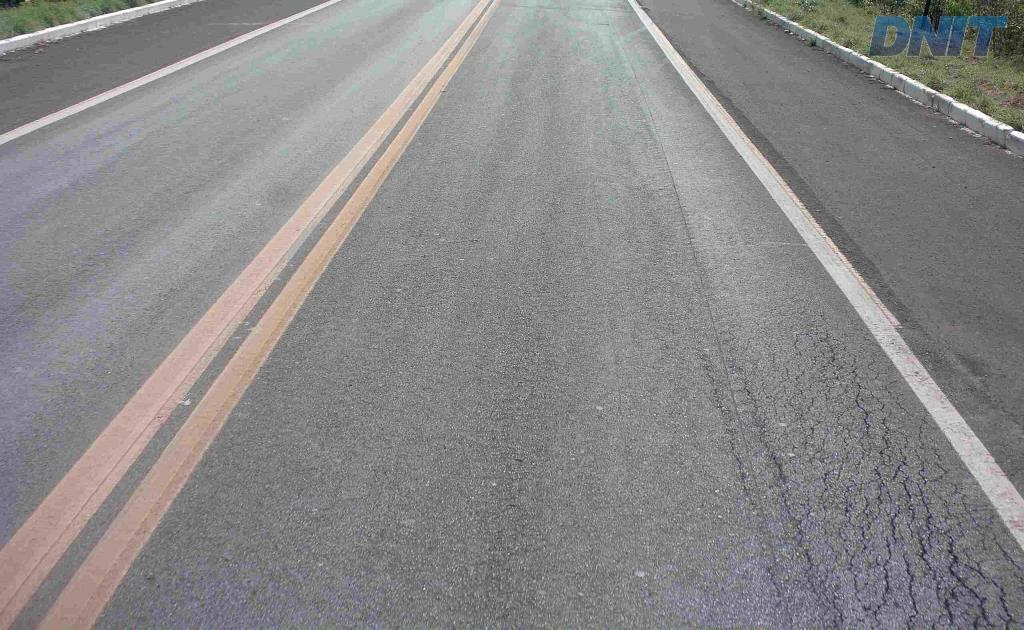crack: (885, 434, 1018, 629), (866, 535, 900, 627), (814, 568, 844, 629)
